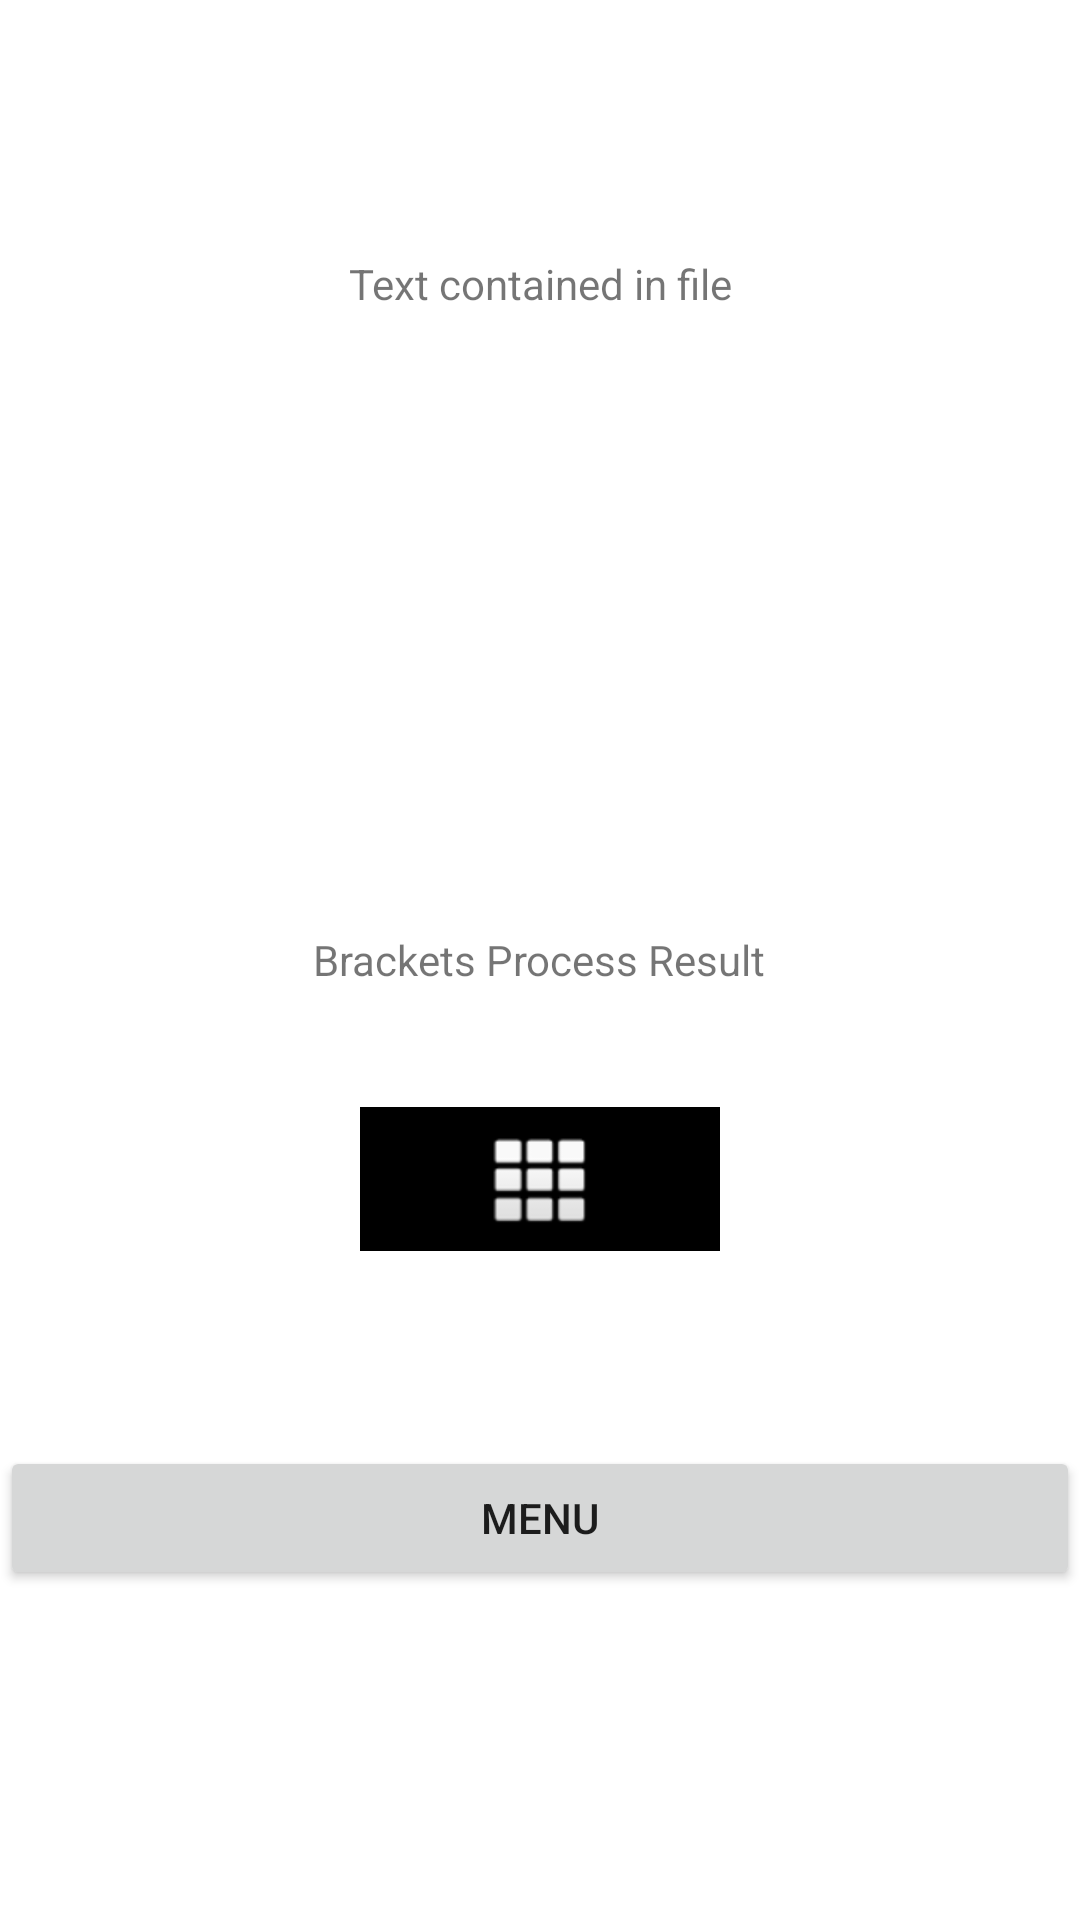

Named icons in this screenshot (1080w x 1920h) and their centers, (x,y):
dialer: (540,1179)
